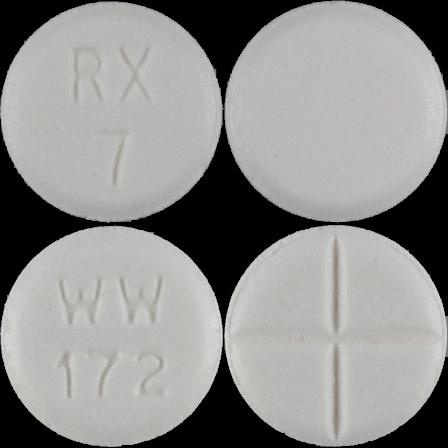68788-9840: (0, 0, 224, 224)
